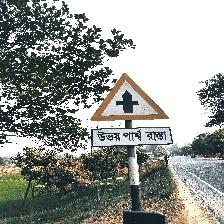Crossroad: (91, 72, 175, 147)
